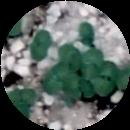Basil: (26, 30, 51, 63), (96, 60, 119, 95), (76, 66, 95, 100), (43, 65, 66, 93), (61, 42, 83, 67), (80, 23, 95, 46)
